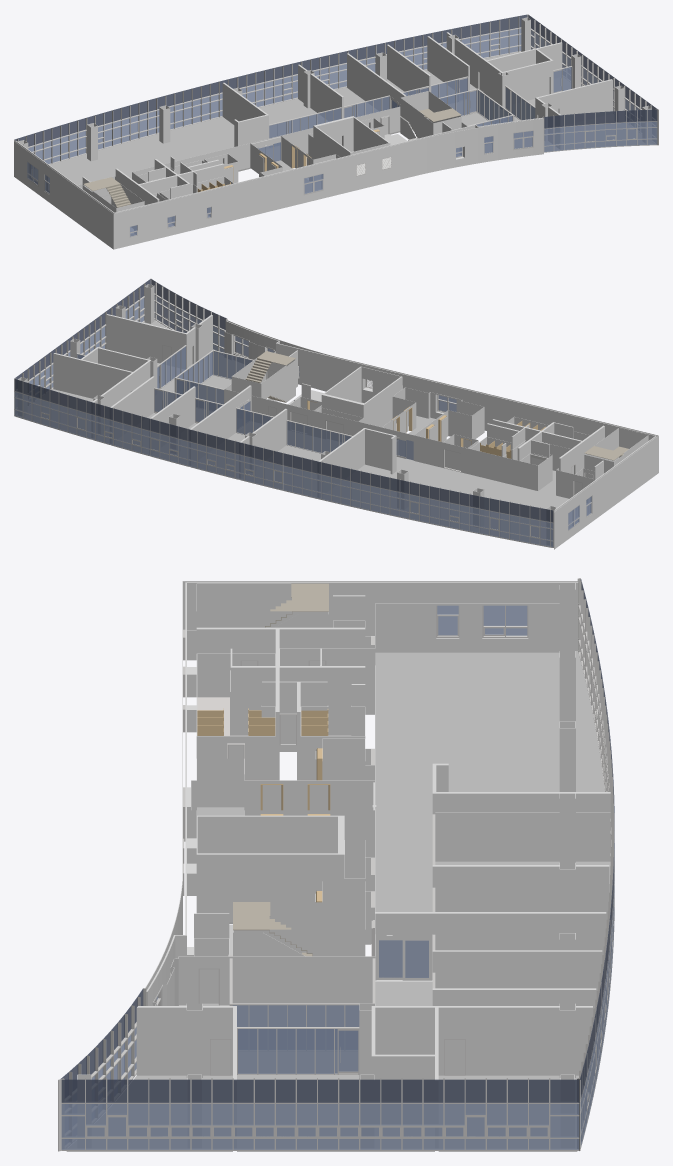
3 views of the same model, one above another, from view 1: azimuth 30°, elevation 25°; view 2: azimuth 150°, elevation 25°; view 3: azimuth 270°, elevation 25° (orthographic). The views are drawn at different scales.
Visible parts, largest first — view 1: A8_14F_Wall, A8_14F_Window, A8_14F_outWall, A8_14F_Floor, A8_14F_Pillar, A8_14F_Glass, A8_14F_Frame, A8_14F_GlassDoor, A8_14F_Stairs, A8_14F_Door, A8_14F_ELEV, A8_14F_AutomaticDoor; view 2: A8_14F_Wall, A8_14F_Window, A8_14F_Floor, A8_14F_Glass, A8_14F_outWall, A8_14F_Pillar, A8_14F_Frame, A8_14F_Door, A8_14F_Stairs, A8_14F_ELEV, A8_14F_AutomaticDoor, A8_14F_GlassDoor; view 3: A8_14F_Wall, A8_14F_Floor, A8_14F_Window, A8_14F_Pillar, A8_14F_Glass, A8_14F_Door, A8_14F_AutomaticDoor, A8_14F_Stairs, A8_14F_Frame, A8_14F_Toilet, A8_14F_outWall, A8_14F_ELEV (+1 smaller).
Boxes of the visible parts, x1=… form: A8_14F_Wall: x1=15, y1=32, x2=612, y2=235; A8_14F_Window: x1=14, y1=14, x2=658, y2=237; A8_14F_outWall: x1=14, y1=118, x2=543, y2=249; A8_14F_Floor: x1=31, y1=52, x2=652, y2=191; A8_14F_Pillar: x1=17, y1=17, x2=651, y2=161; A8_14F_Glass: x1=287, y1=67, x2=571, y2=133; A8_14F_Frame: x1=269, y1=66, x2=572, y2=138; A8_14F_GlassDoor: x1=156, y1=69, x2=561, y2=197; A8_14F_Stairs: x1=83, y1=108, x2=461, y2=207; A8_14F_Door: x1=102, y1=72, x2=559, y2=203; A8_14F_ELEV: x1=224, y1=129, x2=379, y2=182; A8_14F_AutomaticDoor: x1=251, y1=96, x2=400, y2=163; A8_14F_Wall: x1=53, y1=314, x2=656, y2=527; A8_14F_Window: x1=14, y1=278, x2=591, y2=547; A8_14F_Floor: x1=22, y1=320, x2=587, y2=547; A8_14F_Glass: x1=77, y1=346, x2=343, y2=452; A8_14F_outWall: x1=227, y1=320, x2=658, y2=549; A8_14F_Pillar: x1=18, y1=284, x2=555, y2=544; A8_14F_Frame: x1=76, y1=345, x2=352, y2=453; A8_14F_Door: x1=127, y1=345, x2=593, y2=495; A8_14F_Stairs: x1=245, y1=351, x2=628, y2=460; A8_14F_ELEV: x1=307, y1=400, x2=471, y2=448; A8_14F_AutomaticDoor: x1=237, y1=397, x2=413, y2=460; A8_14F_GlassDoor: x1=154, y1=366, x2=563, y2=454; A8_14F_Wall: x1=136, y1=582, x2=610, y2=1147; A8_14F_Floor: x1=66, y1=651, x2=610, y2=1151; A8_14F_Window: x1=58, y1=578, x2=614, y2=1151; A8_14F_Pillar: x1=77, y1=583, x2=575, y2=1147; A8_14F_Glass: x1=232, y1=1005, x2=359, y2=1073; A8_14F_Door: x1=198, y1=636, x2=465, y2=1075; A8_14F_AutomaticDoor: x1=372, y1=782, x2=432, y2=980; A8_14F_Stairs: x1=233, y1=583, x2=328, y2=956; A8_14F_Frame: x1=229, y1=814, x2=435, y2=1074; A8_14F_Toilet: x1=197, y1=708, x2=328, y2=735; A8_14F_outWall: x1=145, y1=581, x2=577, y2=990; A8_14F_ELEV: x1=260, y1=748, x2=330, y2=902.
Bounding box in the file's own units: 61.96 × 4.3 × 29.02.
